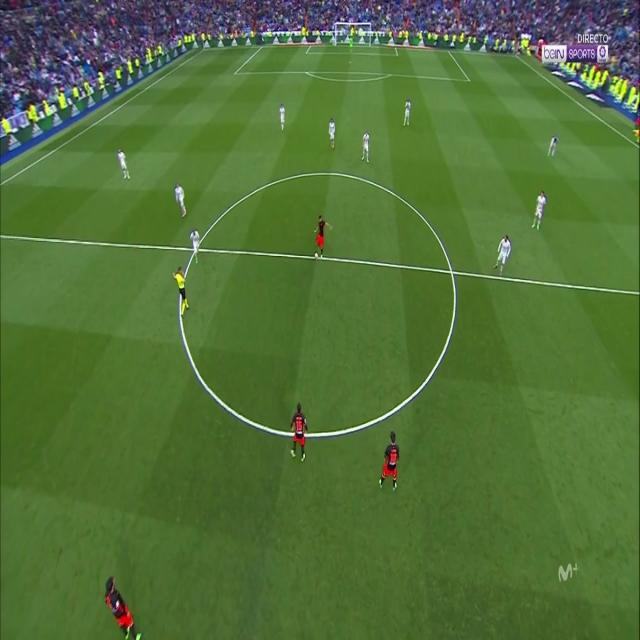Ball: (313, 251, 319, 262)
Goalkeeper: (348, 36, 354, 56)
Player: (102, 572, 145, 640), (377, 428, 401, 493), (288, 400, 310, 466), (488, 232, 512, 278), (314, 214, 332, 262), (529, 190, 546, 232), (174, 180, 188, 224), (117, 145, 133, 182), (189, 226, 201, 264), (402, 94, 413, 132), (361, 128, 372, 165), (328, 115, 337, 153), (547, 134, 560, 160), (279, 102, 288, 136)
Referee: (171, 265, 192, 319)
